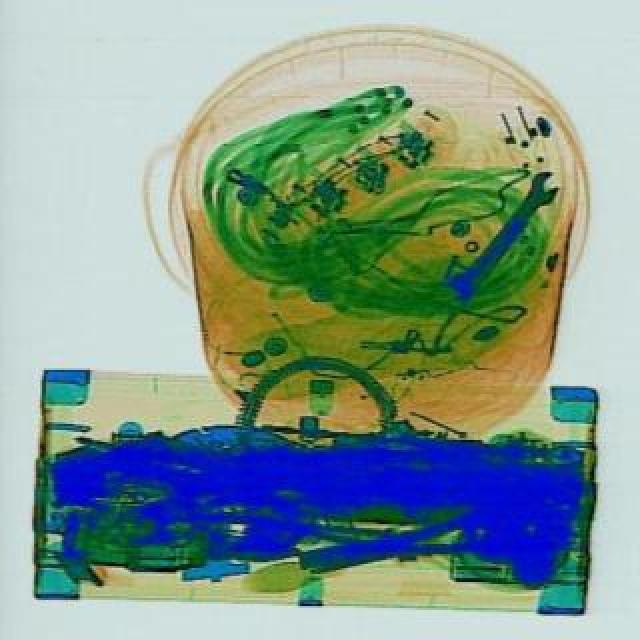scissors: (436, 164, 568, 306)
wrench: (340, 508, 496, 568)
